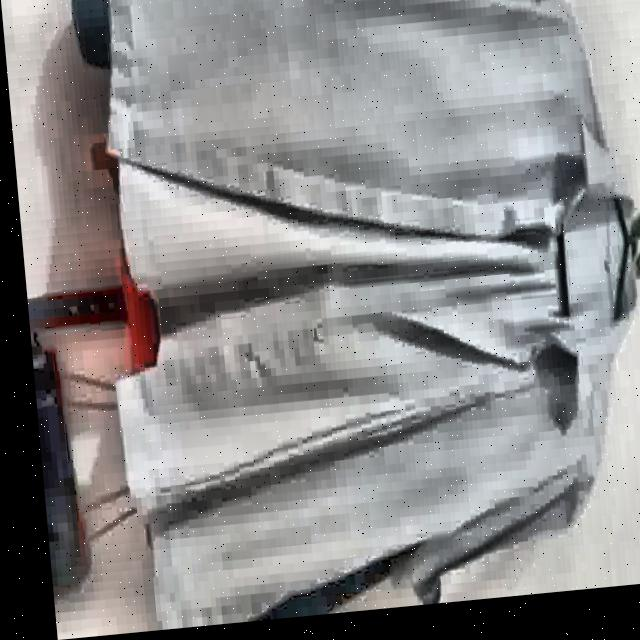clothes: (69, 0, 640, 632)
